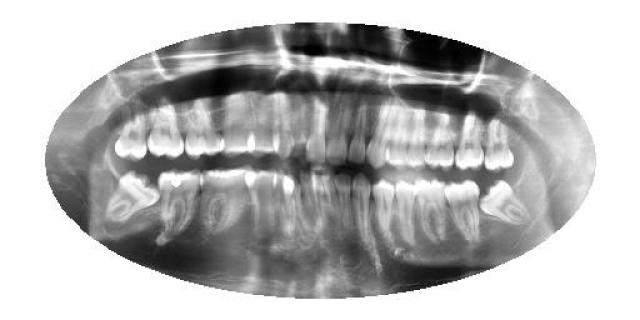Fillings: (160, 170, 202, 232)
Restorations: (101, 170, 160, 222), (479, 179, 530, 225)
